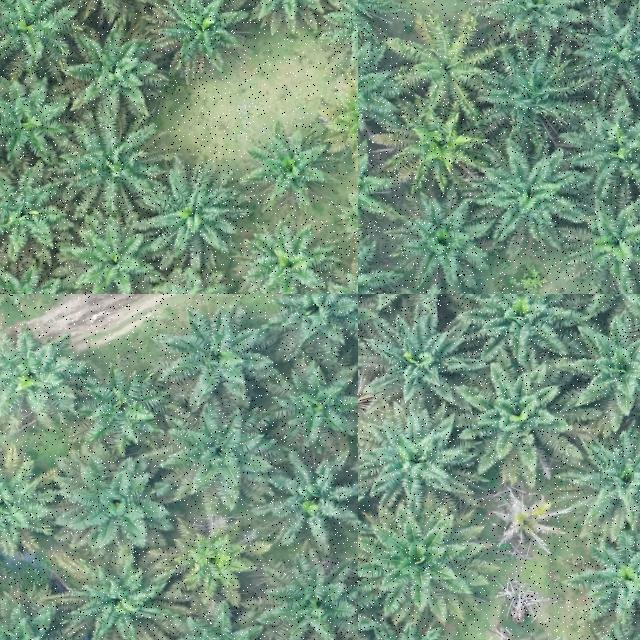Ganoderma: (183, 536, 242, 588), (499, 502, 551, 546), (338, 87, 358, 146)
